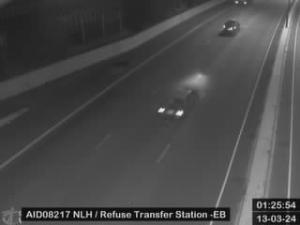vehicle: (158, 87, 198, 119), (222, 20, 240, 36), (232, 1, 252, 8)
